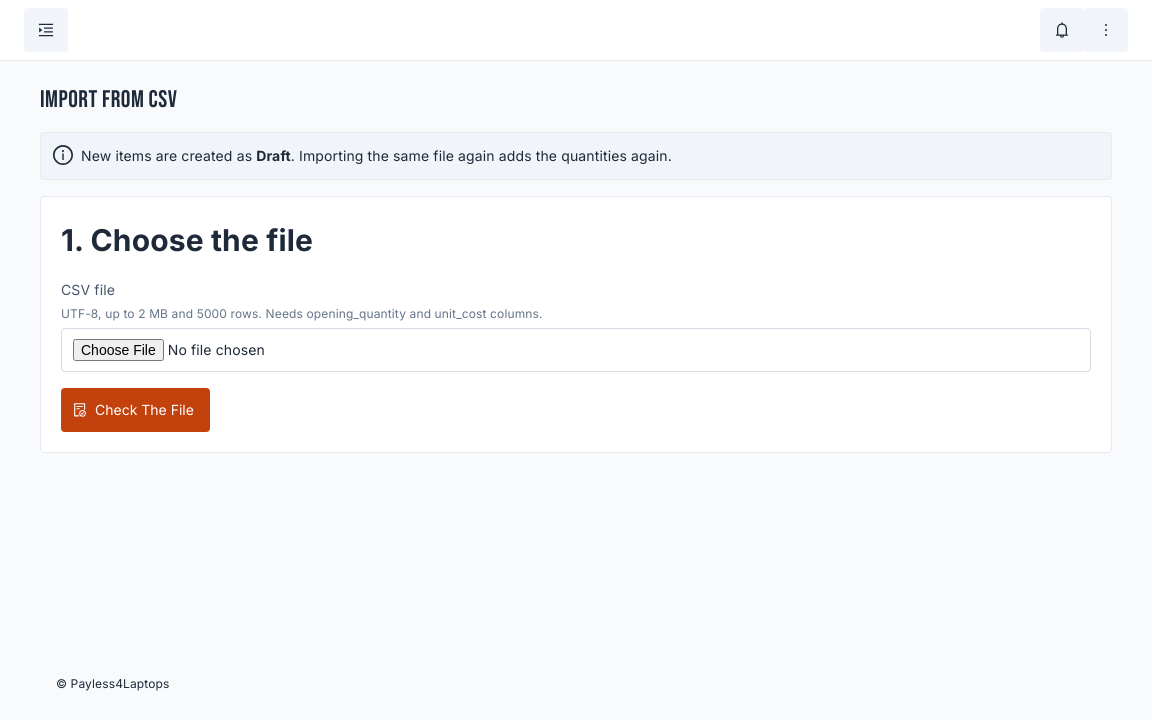
CSV import screen › asks for a file before checking
Click the button "Check the file": x=135, y=410 [61,388,210,432]
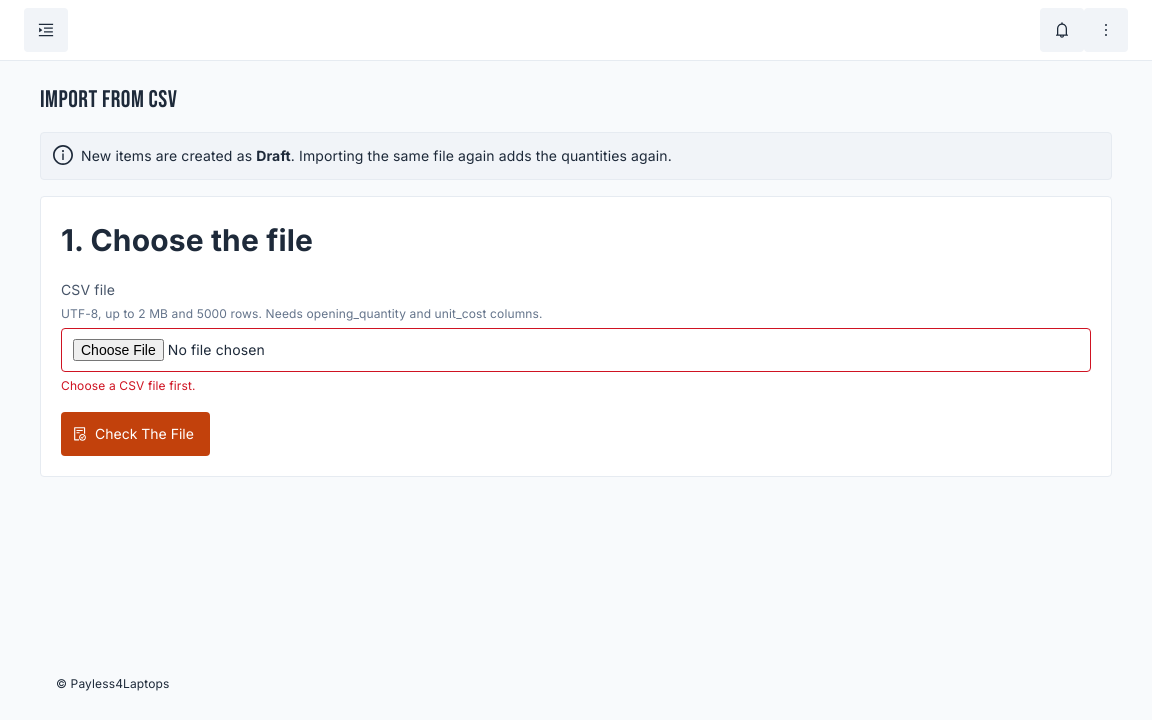
Expected: the text "Choose a CSV file first." is shown, [61,378,196,393]
